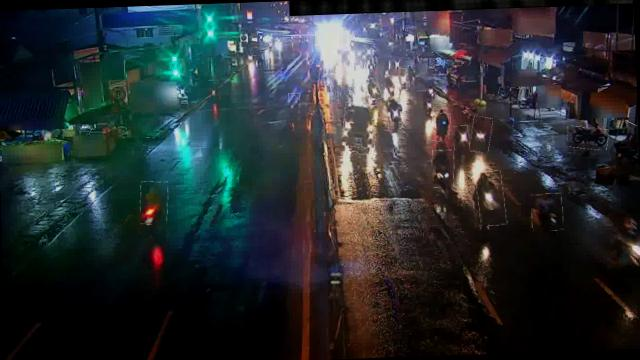Bike: (476, 170, 505, 226), (139, 181, 168, 225), (531, 193, 564, 231), (566, 127, 608, 150), (431, 149, 454, 188), (469, 116, 492, 153), (430, 113, 450, 143), (416, 90, 434, 119), (386, 99, 402, 130), (498, 87, 522, 104), (453, 126, 470, 150), (367, 78, 381, 100), (385, 76, 397, 98), (288, 94, 301, 114), (398, 68, 409, 90), (208, 80, 218, 99)
Car: (342, 103, 378, 148)
